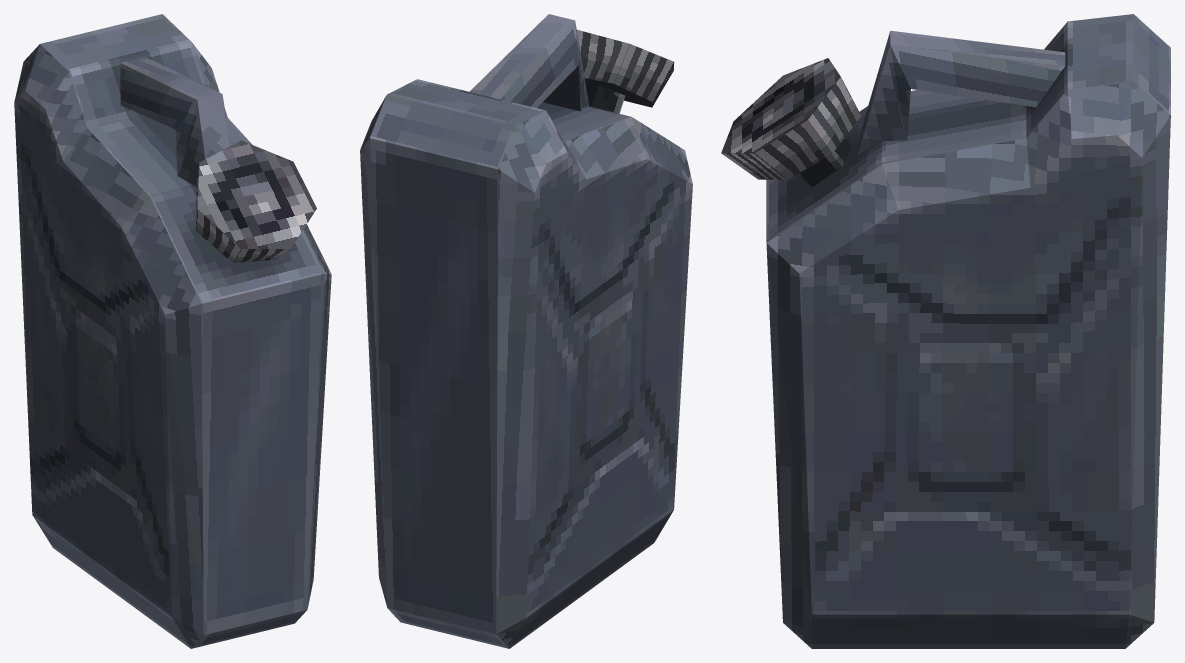
Rendered from GEN_VRPickup.obj.
The picture shows the model from 3 angles, left to right: view 1: azimuth 30°, elevation 25°; view 2: azimuth 150°, elevation 25°; view 3: azimuth 270°, elevation 25°; orthographic projection. The views are drawn at different scales.
Visible parts, largest first — view 1: Node 0; view 2: Node 0; view 3: Node 0.
Part boxes in pixels (left/top/right/bottom): Node 0: left=14, top=14, right=331, bottom=648; Node 0: left=360, top=14, right=692, bottom=648; Node 0: left=721, top=14, right=1170, bottom=648.
Size of the model in its own units: 0.53 by 1.56 by 1.09.
1 material, 1 textured.
